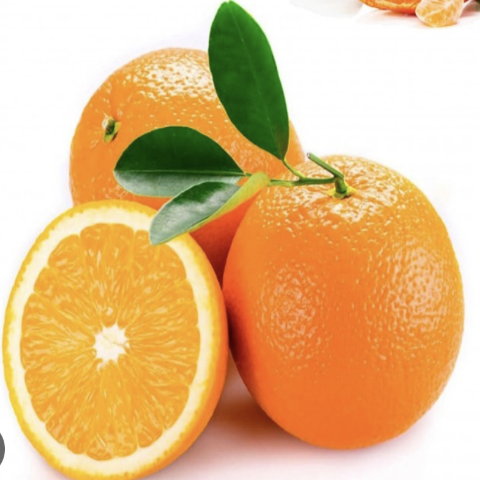orange: (205, 123, 475, 464), (61, 42, 330, 317)
